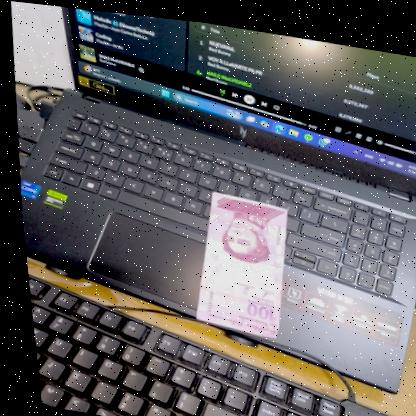one_hundred-front-vef: (178, 182, 294, 336)
